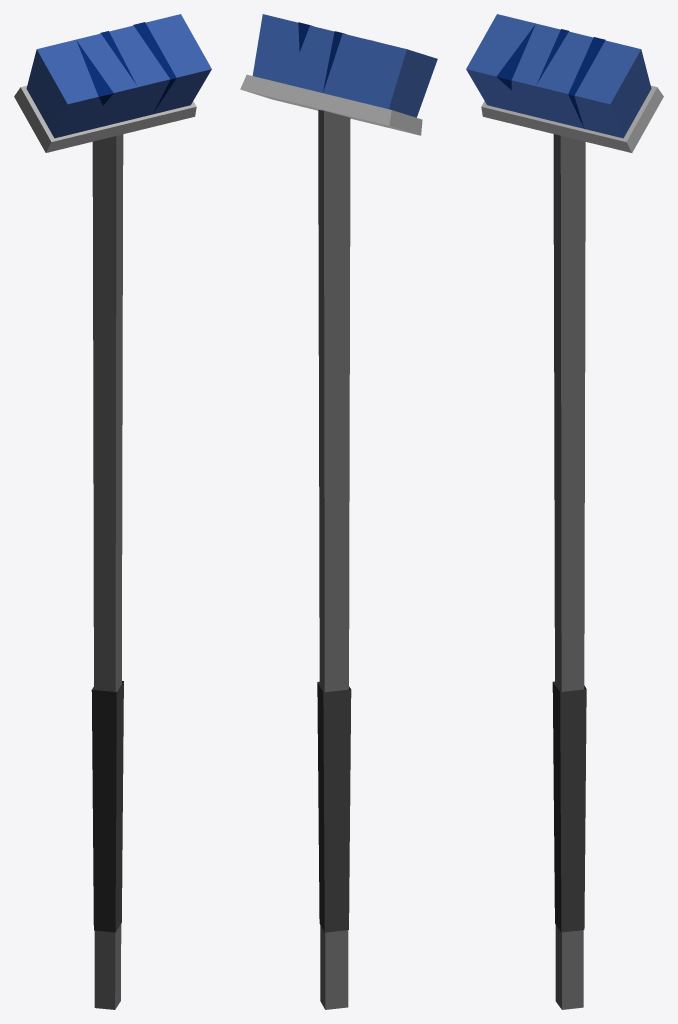
Rendered from Item_FloorBrush01.FBX.
3 views of the same model, side by side, from view 1: azimuth 30°, elevation 25°; view 2: azimuth 150°, elevation 25°; view 3: azimuth 330°, elevation 25° (orthographic).
Visible parts, largest first — view 1: Item_FloorBrush01; view 2: Item_FloorBrush01; view 3: Item_FloorBrush01.
Part boxes in pixels (bbox=[...]): Item_FloorBrush01: bbox=[14, 14, 211, 1009]; Item_FloorBrush01: bbox=[240, 14, 437, 1009]; Item_FloorBrush01: bbox=[466, 14, 663, 1009].
Bounding box in the file's own units: 19.45 × 121 × 11.61.
